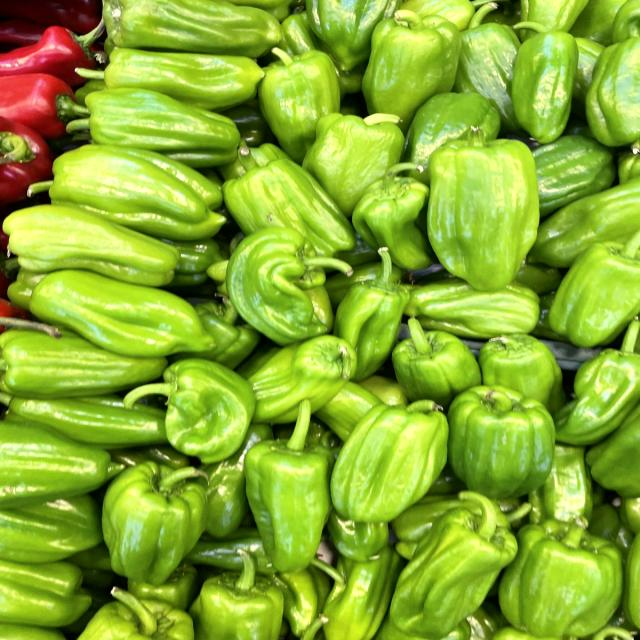bell pepper: (412, 125, 559, 298), (17, 140, 231, 241), (320, 390, 468, 525), (498, 517, 634, 640), (63, 81, 245, 167), (99, 457, 220, 583), (453, 384, 558, 497)
